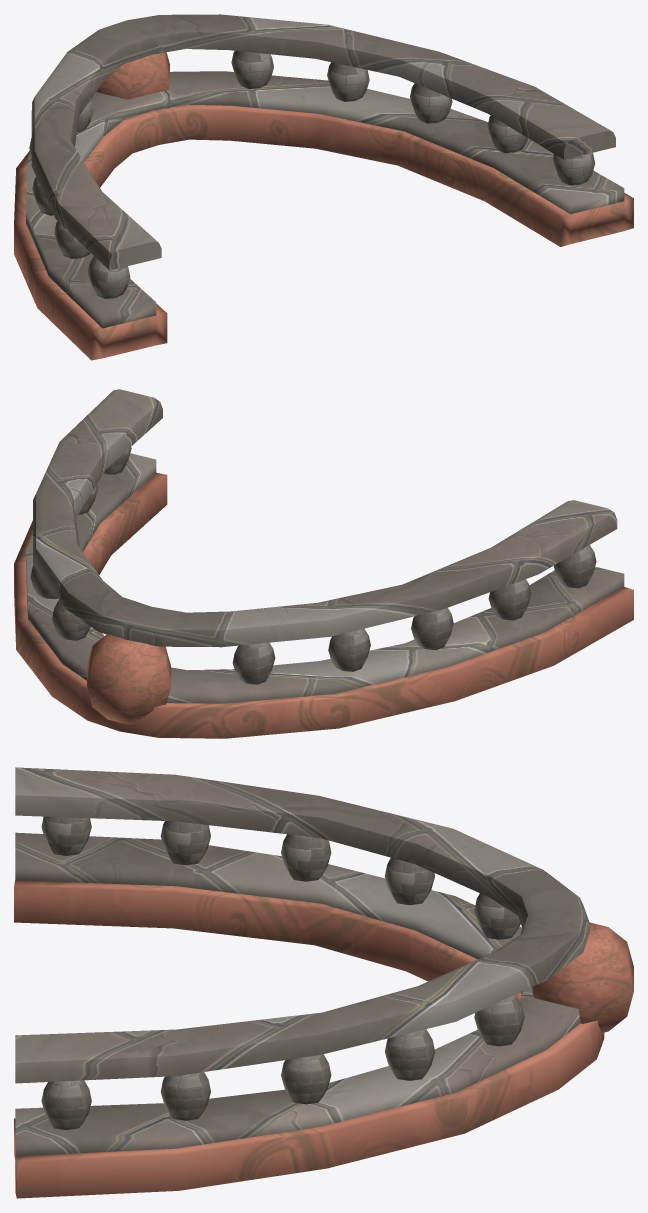
Rendered from balcony_guardrail_1.fbx.
3 renders of one model, top to bottom at view 1: azimuth 30°, elevation 25°; view 2: azimuth 150°, elevation 25°; view 3: azimuth 270°, elevation 25°, orthographic. The views are drawn at different scales.
Visible parts, largest first — view 1: balcony_ledge_1:balcony_ledge_1:balcony_ledge_1:balcony_ledg (×4), balcony_ledge_1:balcony_ledge_1:pSphere1; view 2: balcony_ledge_1:balcony_ledge_1:balcony_ledge_1:balcony_ledg (×4), balcony_ledge_1:balcony_ledge_1:pSphere1; view 3: balcony_ledge_1:balcony_ledge_1:balcony_ledge_1:balcony_ledg (×4), balcony_ledge_1:balcony_ledge_1:pSphere1.
Boxes of the visible parts, x1,y1,x2,y2 form: balcony_ledge_1:balcony_ledge_1:balcony_ledge_1:balcony_ledg (×4): (14,14,633,360); balcony_ledge_1:balcony_ledge_1:pSphere1: (96,52,169,99); balcony_ledge_1:balcony_ledge_1:balcony_ledge_1:balcony_ledg (×4): (14,389,633,738); balcony_ledge_1:balcony_ledge_1:pSphere1: (87,634,170,724); balcony_ledge_1:balcony_ledge_1:balcony_ledge_1:balcony_ledg (×4): (14,767,604,1198); balcony_ledge_1:balcony_ledge_1:pSphere1: (532,922,633,1032).
Size of the model in its own units: 5.36 by 0.9851 by 4.39.
